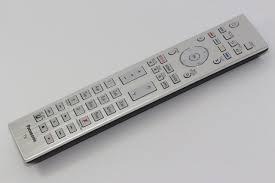remote control: (2, 1, 275, 183)
